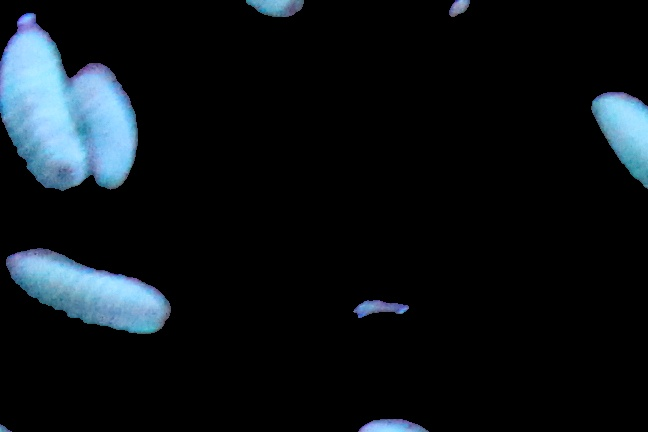larvae: (1, 14, 91, 192), (8, 253, 169, 340), (66, 63, 141, 187), (586, 83, 648, 190)
